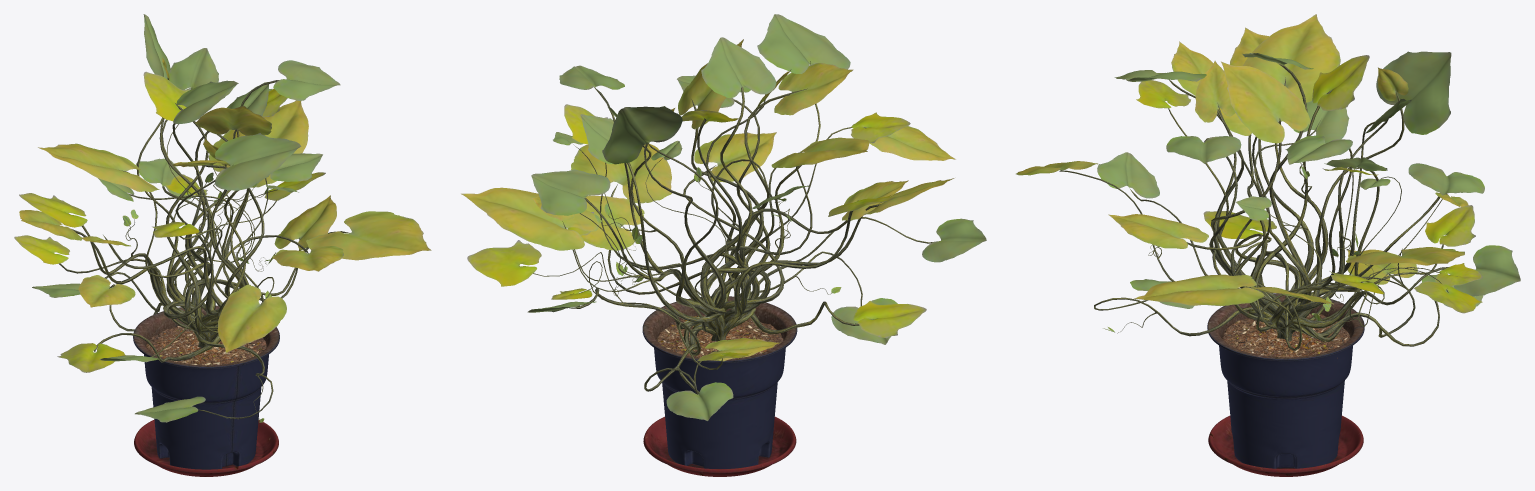
File: ornamental_sweet_potato_-_ipomea_batatas.glb
The picture shows the model from 3 angles, left to right: view 1: azimuth 30°, elevation 25°; view 2: azimuth 150°, elevation 25°; view 3: azimuth 270°, elevation 25°; orthographic projection. The views are drawn at different scales.
Parts seen in each view (by area): view 1: Circle; view 2: Circle; view 3: Circle.
Part boxes in pixels (x1,y1,x2,y2): Circle: (14,14,431,476); Circle: (461,14,986,476); Circle: (1016,14,1520,476).
Bounding box in the file's own units: 6.74 × 6.52 × 7.34.
Materials: 7 (7 with a texture image).
